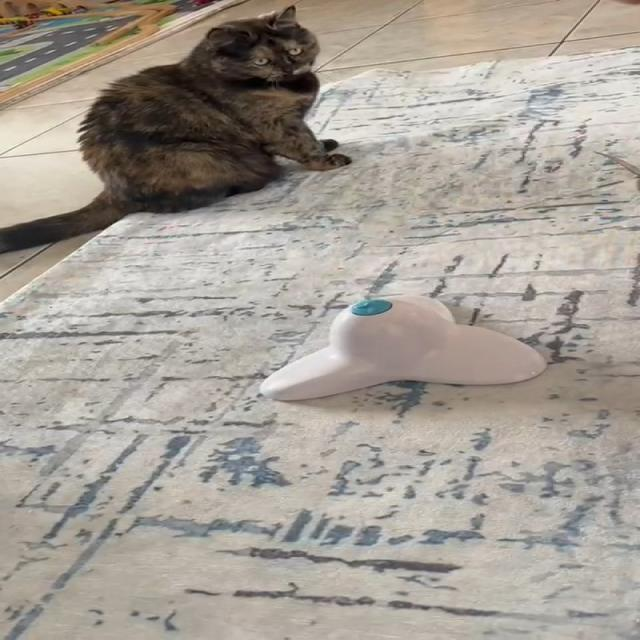authorized: (0, 4, 352, 255)
